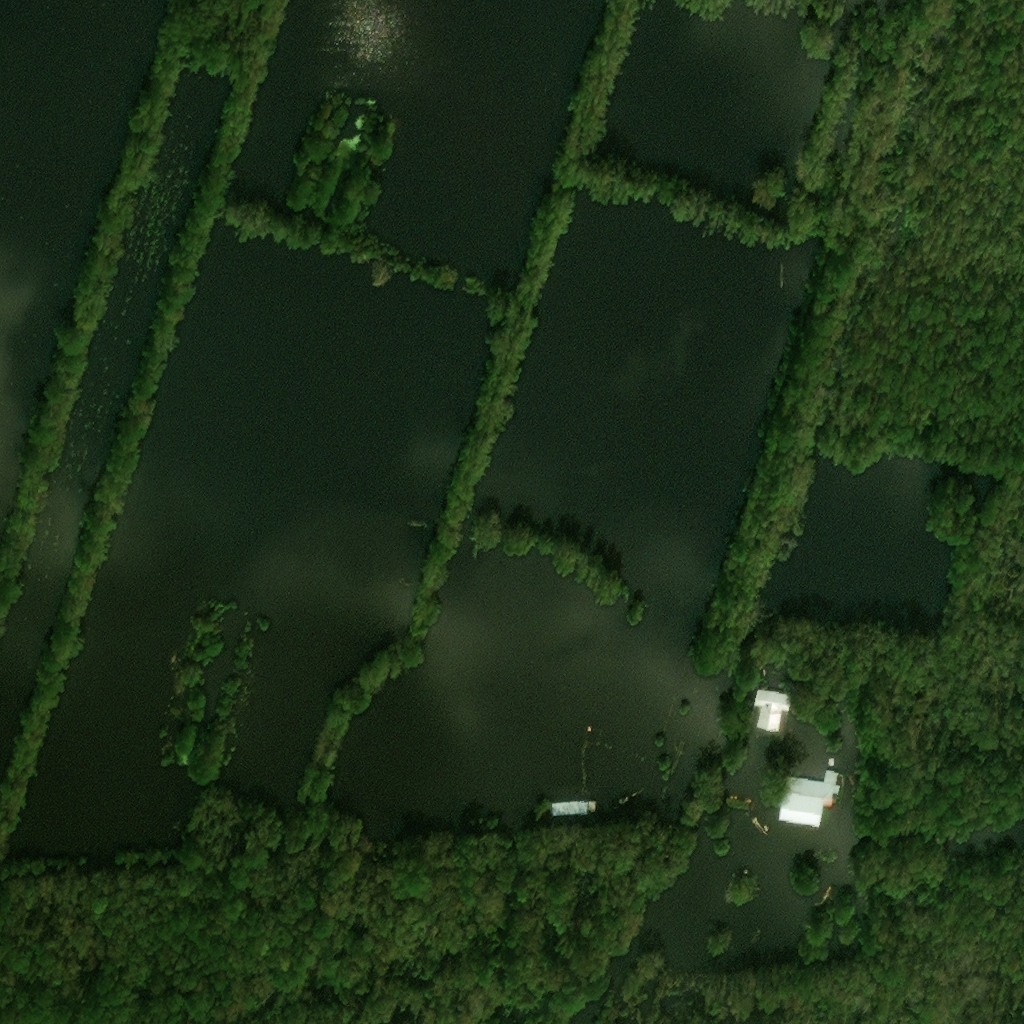major_damage: (775, 772, 838, 825), (751, 690, 790, 732), (551, 801, 603, 818)
unclassified: (923, 836, 939, 845)
